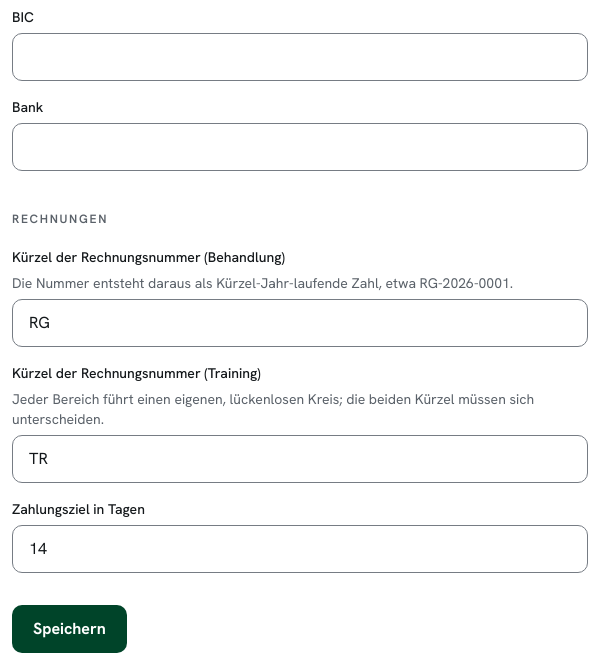
it: PracticeProfilePage › weist zwei gleiche Kuerzel der Rechnungsnummer ab (ABR-010)
The width and height of the screenshot is (609, 653).
(page scrolled)
Replace the text in the field labelled "Kürzel der Rechnungsnummer (Training)" with "RG": (300, 459) [12,435,588,483]
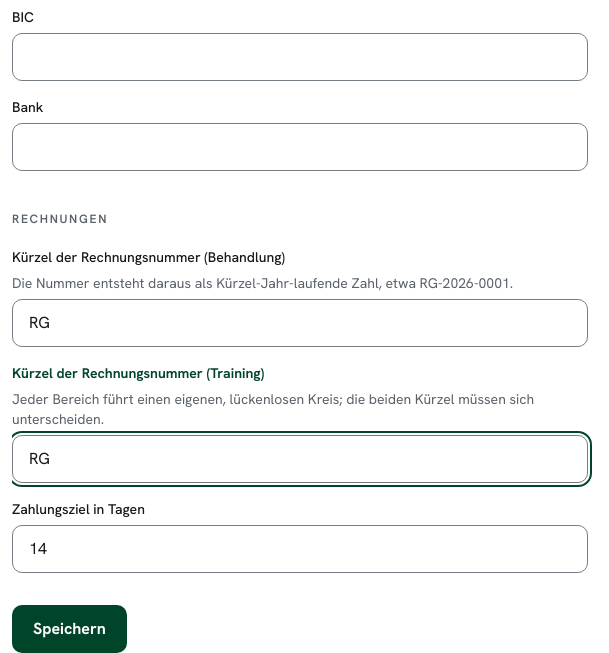
Click the button "Speichern": (69, 629) [12,605,127,652]
(page scrolled)
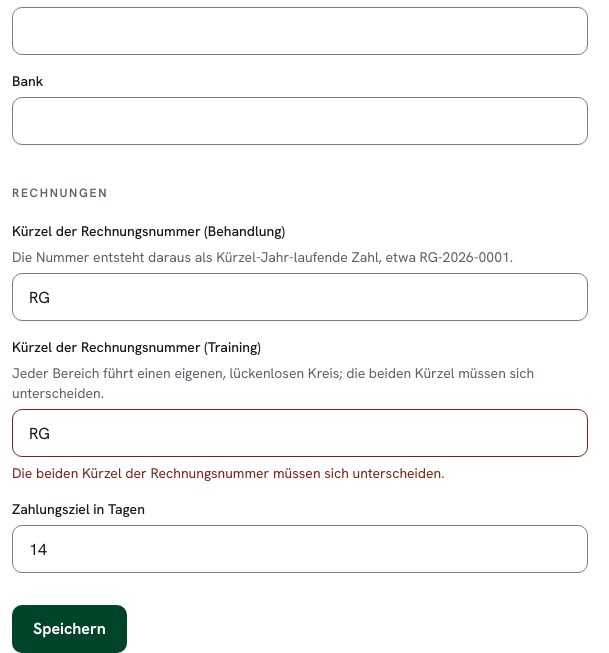
expect the text "Die beiden Kürzel der Rechnungsnummer müssen sich unterscheiden." is shown: met, box [12,464,445,482]
